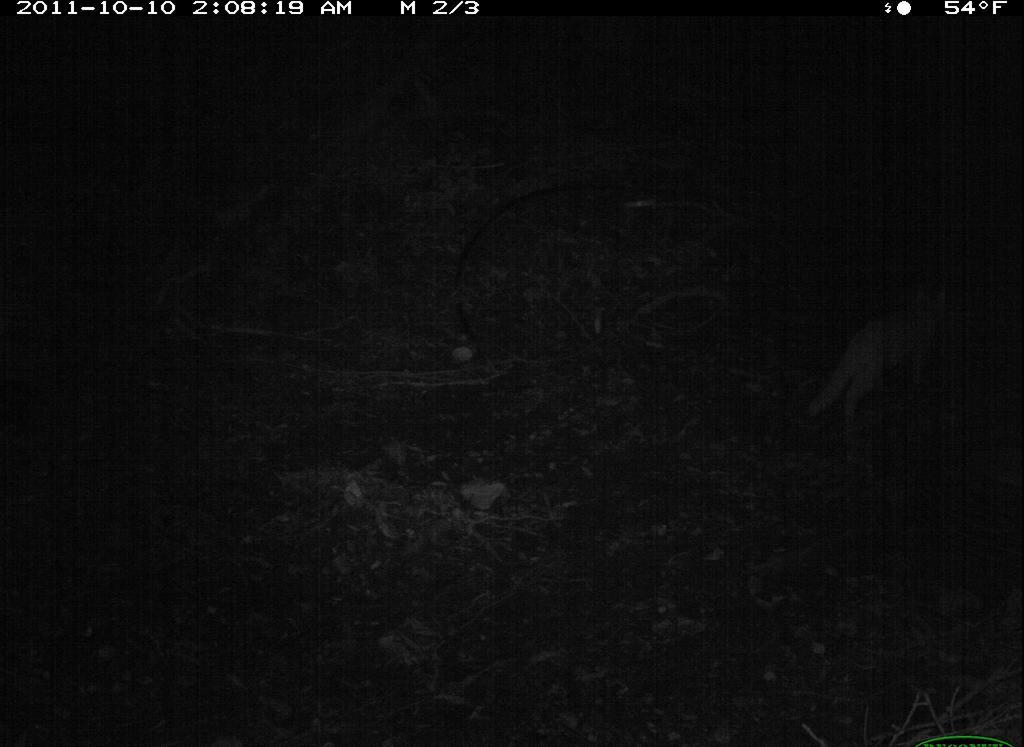cat: (795, 274, 975, 441)
